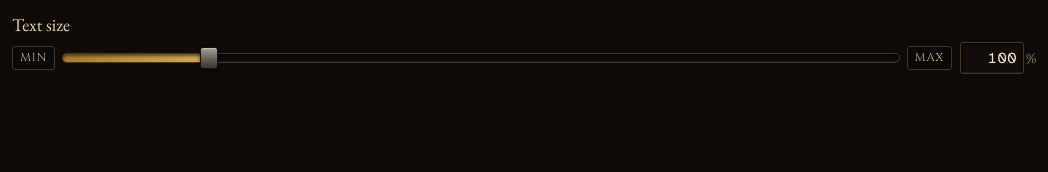
Test: Slider › the typed field commits on Enter (snapped and clamped) and reverts on Escape
Step 1. Replace the text in the field named "Type a value" with "123" → (992, 58), box [960,42,1024,74]
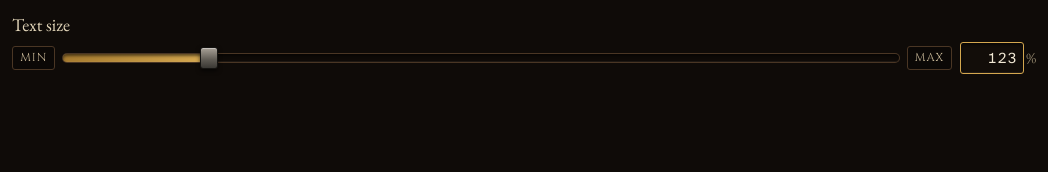
Step 2. Press Enter in the field named "Type a value", box [960,42,1024,74]
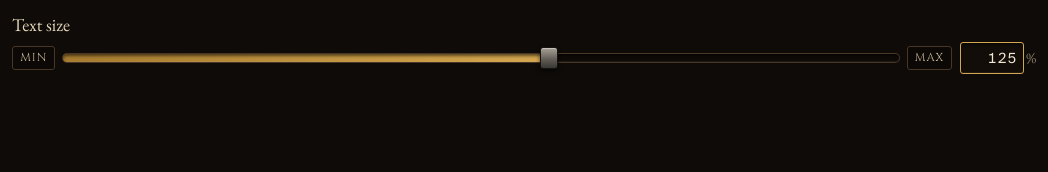
Result: the field named "Type a value" holds "125"
Step 3. Replace the text in the field named "Type a value" with "999" → (992, 58), box [960,42,1024,74]
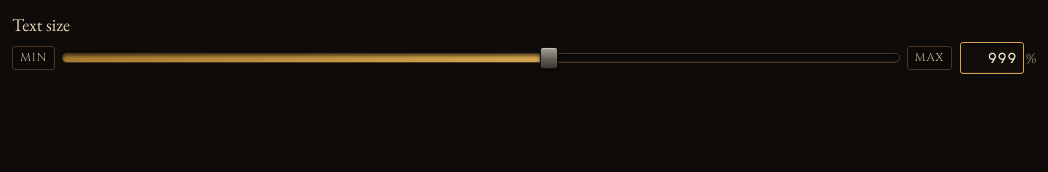
Step 4. Press Escape in the field named "Type a value", box [960,42,1024,74]
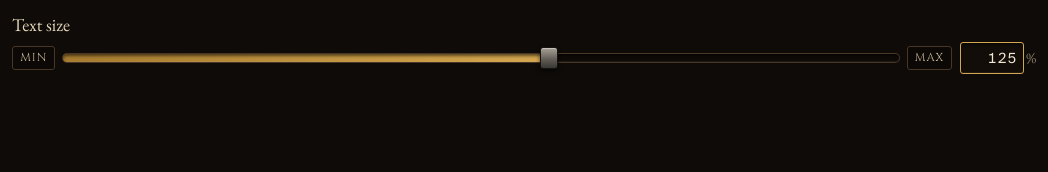
Result: the field named "Type a value" holds "125"
Step 5. Replace the text in the field named "Type a value" with "abc" → (992, 58), box [960,42,1024,74]
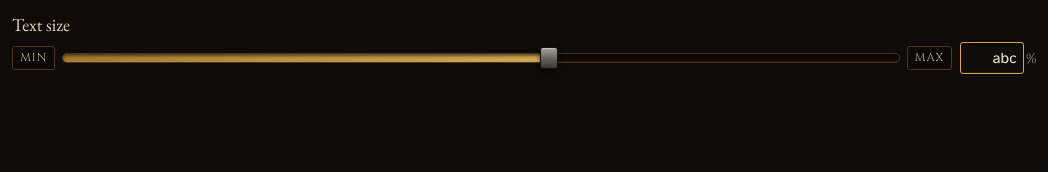
Step 6. Leave the field named "Type a value", box [960,42,1024,74]
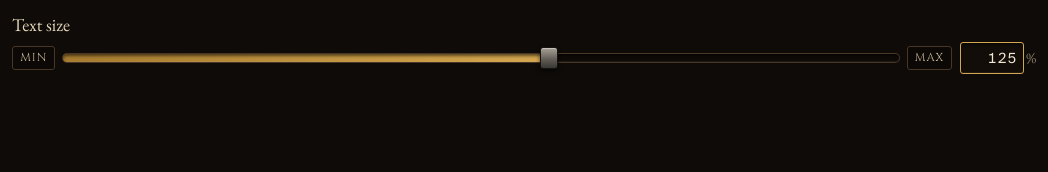
Result: the field named "Type a value" holds "125" at [960,42,1024,74]
